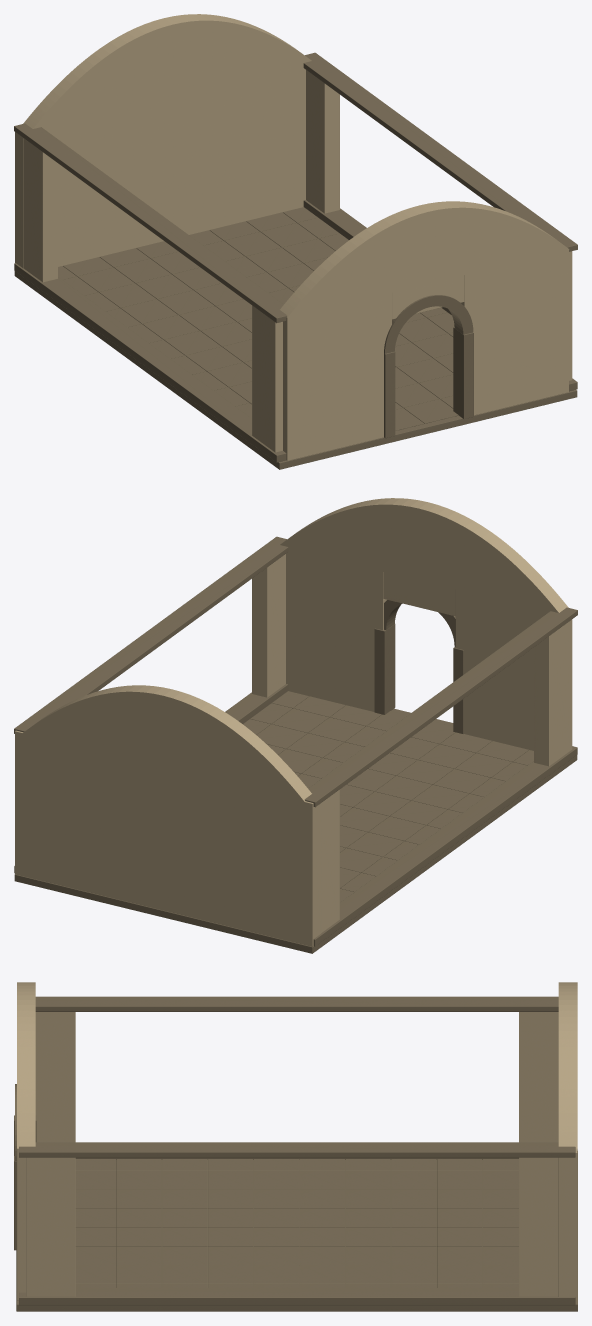
File: church_shell.glb
3 views of the same model, one above another, from view 1: azimuth 30°, elevation 25°; view 2: azimuth 150°, elevation 25°; view 3: azimuth 270°, elevation 25° (orthographic). The views are drawn at different scales.
Visible parts, largest first — view 1: RearWall, VaultEndWall, VaultEndWall.001, EntrySide, EntrySide.001, Cornice, Plinth, Cornice.001, SideEnd.001, SideEnd.003, Floor, SideEnd (+31 smaller); view 2: RearWall, VaultEndWall.001, VaultEndWall, EntrySide.001, EntrySide, Cornice, Plinth, Cornice.001, SideEnd, SideEnd.002, Floor, SideEnd.001 (+30 smaller); view 3: Plinth.001, Cornice.001, Cornice, SideEnd.002, SideEnd.003, Floor, SideEnd, SideEnd.001, VaultEndWall.001, VaultEndWall, RearWall, EntrySide.001 (+71 smaller).
Part boxes in pixels (x1=…): RearWall: x1=15, y1=65, x2=305, y2=268; VaultEndWall: x1=280, y1=201, x2=569, y2=317; VaultEndWall.001: x1=23, y1=14, x2=311, y2=128; EntrySide: x1=283, y1=292, x2=391, y2=460; EntrySide.001: x1=461, y1=249, x2=568, y2=415; Cornice: x1=14, y1=123, x2=287, y2=323; Plinth: x1=14, y1=263, x2=286, y2=462; Cornice.001: x1=303, y1=52, x2=577, y2=251; SideEnd.001: x1=24, y1=138, x2=57, y2=282; SideEnd.003: x1=306, y1=70, x2=339, y2=213; Floor: x1=14, y1=271, x2=577, y2=469; SideEnd: x1=252, y1=305, x2=282, y2=452; RearWall: x1=15, y1=730, x2=321, y2=946; VaultEndWall.001: x1=23, y1=685, x2=311, y2=801; VaultEndWall: x1=280, y1=498, x2=568, y2=612; EntrySide.001: x1=286, y1=549, x2=386, y2=711; EntrySide: x1=455, y1=589, x2=548, y2=750; Cornice: x1=304, y1=607, x2=577, y2=807; Plinth: x1=313, y1=746, x2=577, y2=946; Cornice.001: x1=14, y1=536, x2=288, y2=733; SideEnd: x1=534, y1=619, x2=572, y2=766; SideEnd.002: x1=252, y1=554, x2=285, y2=697; Floor: x1=14, y1=708, x2=577, y2=953; SideEnd.001: x1=321, y1=789, x2=339, y2=932; Plinth.001: x1=19, y1=1288, x2=575, y2=1305; Cornice.001: x1=19, y1=1142, x2=575, y2=1157; Cornice: x1=35, y1=996, x2=558, y2=1011; SideEnd.002: x1=26, y1=1157, x2=75, y2=1296; SideEnd.003: x1=519, y1=1157, x2=558, y2=1296; Floor: x1=16, y1=1151, x2=577, y2=1311; SideEnd: x1=35, y1=1012, x2=75, y2=1142; SideEnd.001: x1=519, y1=1012, x2=558, y2=1142; VaultEndWall.001: x1=558, y1=982, x2=577, y2=1148; VaultEndWall: x1=17, y1=982, x2=35, y2=1148; RearWall: x1=558, y1=1148, x2=577, y2=1304; EntrySide.001: x1=17, y1=1149, x2=26, y2=1300.
Bounding box in the file's own units: 7.49 × 5.26 × 11.45.
Materials: 2 (2 with a texture image).
